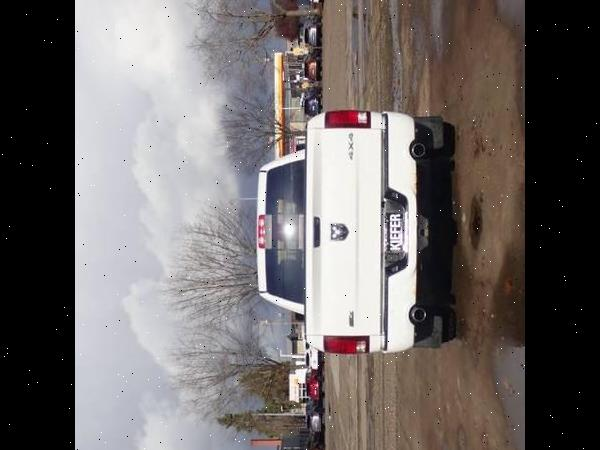Left_Taillight: (324, 334, 371, 353)
Rear_Bumper: (382, 111, 420, 354)
Rear_Windshield: (257, 147, 308, 314)
Right_Taillight: (326, 108, 372, 127)
Tailgate: (305, 111, 382, 353)
